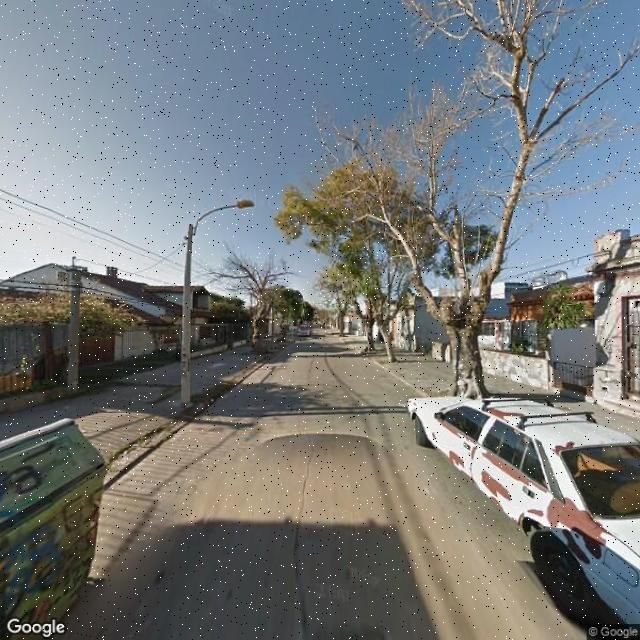garbage container: (1, 407, 142, 640)
